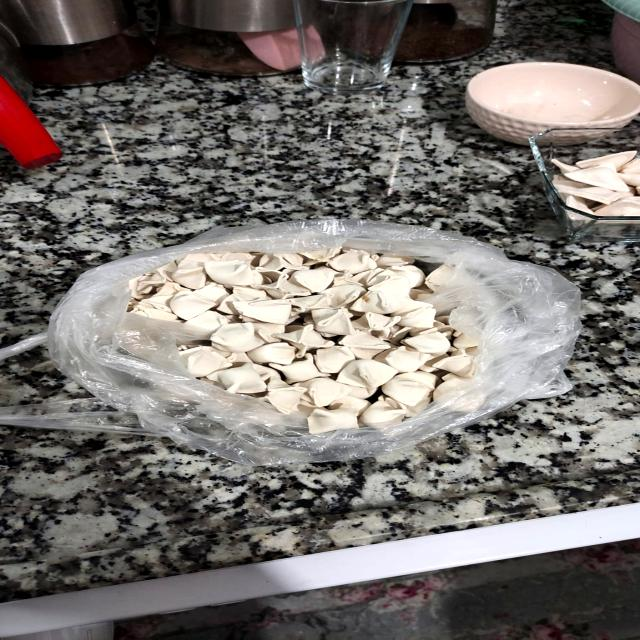turkish dumplings: (114, 236, 524, 434)
